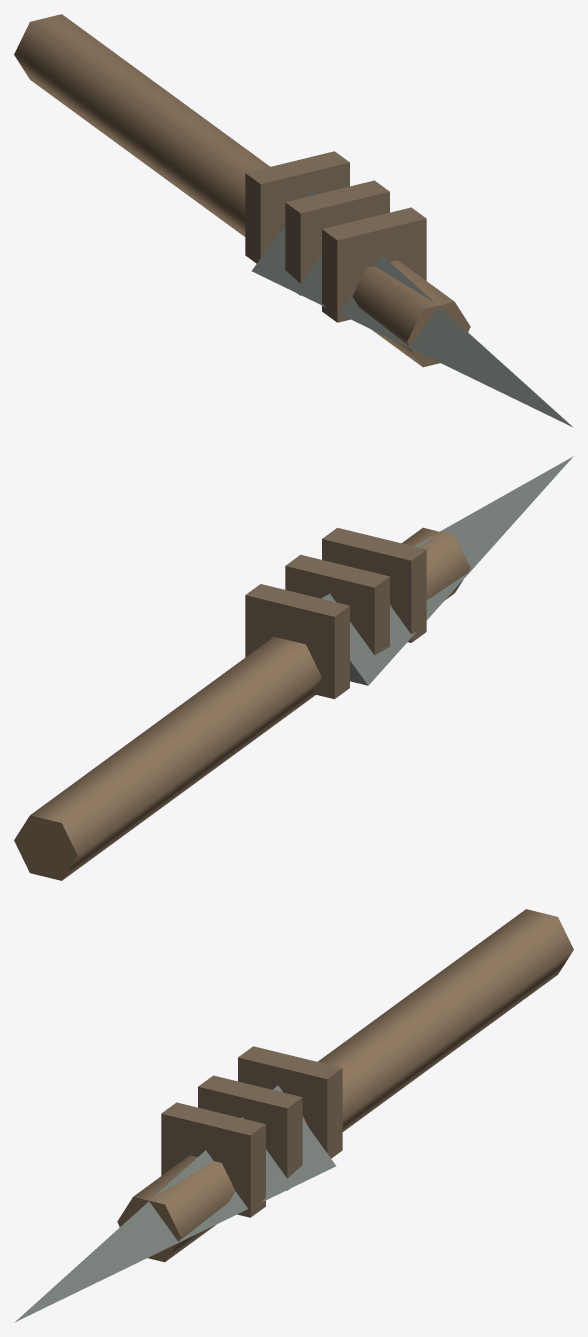
Rendered from spread-portable-forged-spike-oak-leather.fbx.
3 views of the same model, one above another, from view 1: azimuth 30°, elevation 25°; view 2: azimuth 150°, elevation 25°; view 3: azimuth 330°, elevation 25° (orthographic).
Visible parts, largest first — view 1: spread-portable-forged-spike-oak-leather__Geometry; view 2: spread-portable-forged-spike-oak-leather__Geometry; view 3: spread-portable-forged-spike-oak-leather__Geometry.
Part boxes in pixels (x1,y1,x2,y2): spread-portable-forged-spike-oak-leather__Geometry: [14, 14, 573, 427]; spread-portable-forged-spike-oak-leather__Geometry: [14, 456, 573, 880]; spread-portable-forged-spike-oak-leather__Geometry: [14, 909, 573, 1322].
Size of the model in its own units: 0.11 by 0.083 by 0.86.
